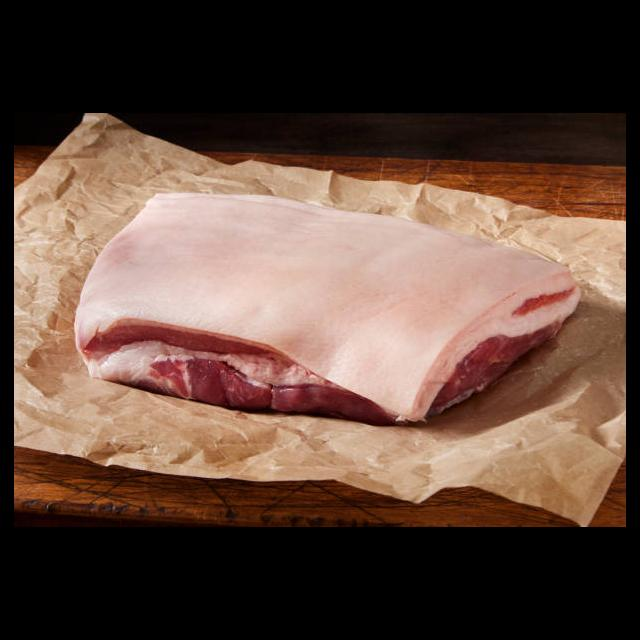pork: (77, 200, 570, 417)
